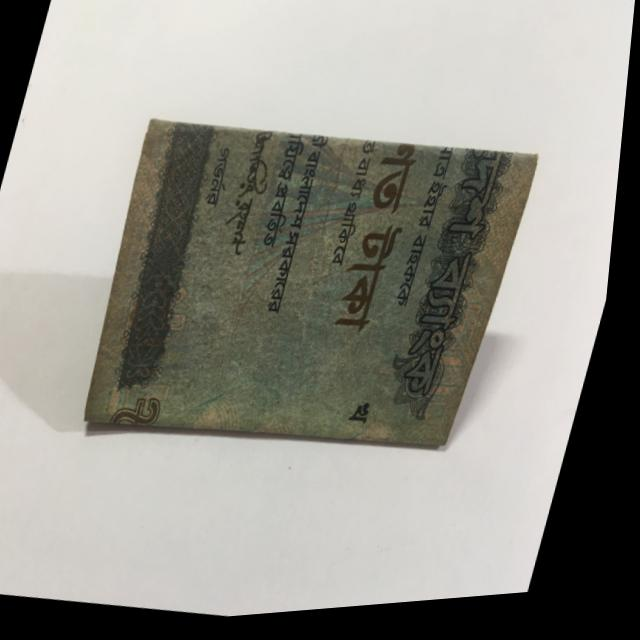Taka: (66, 84, 544, 491)
